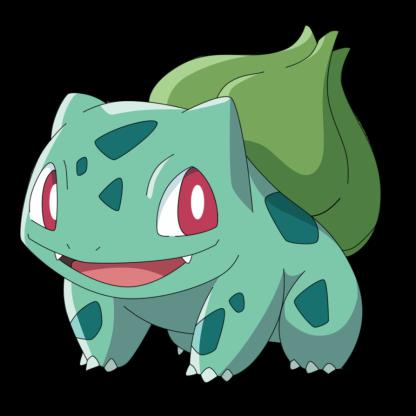Bulbasaur: (30, 27, 390, 382)
